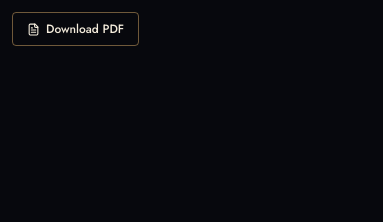
Scenario: Ticket C-UI · DownloadPdfButton › 404 → honest 'project not found' message
Click the button with test id "health-pdf-download-btn": (76, 29) [12,12,139,46]
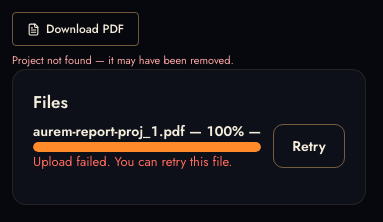
Expected: the text "Project not found" is shown, [12,52,234,68]
